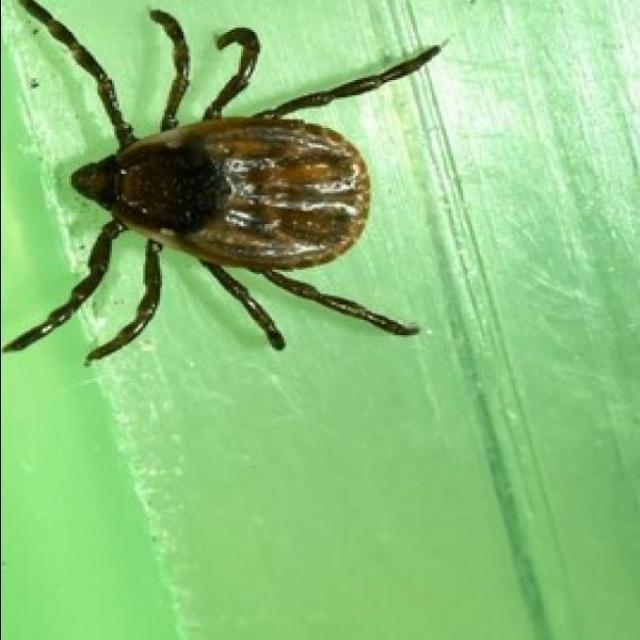Rhipicephalus Sanguineus-F: (1, 0, 440, 366)
